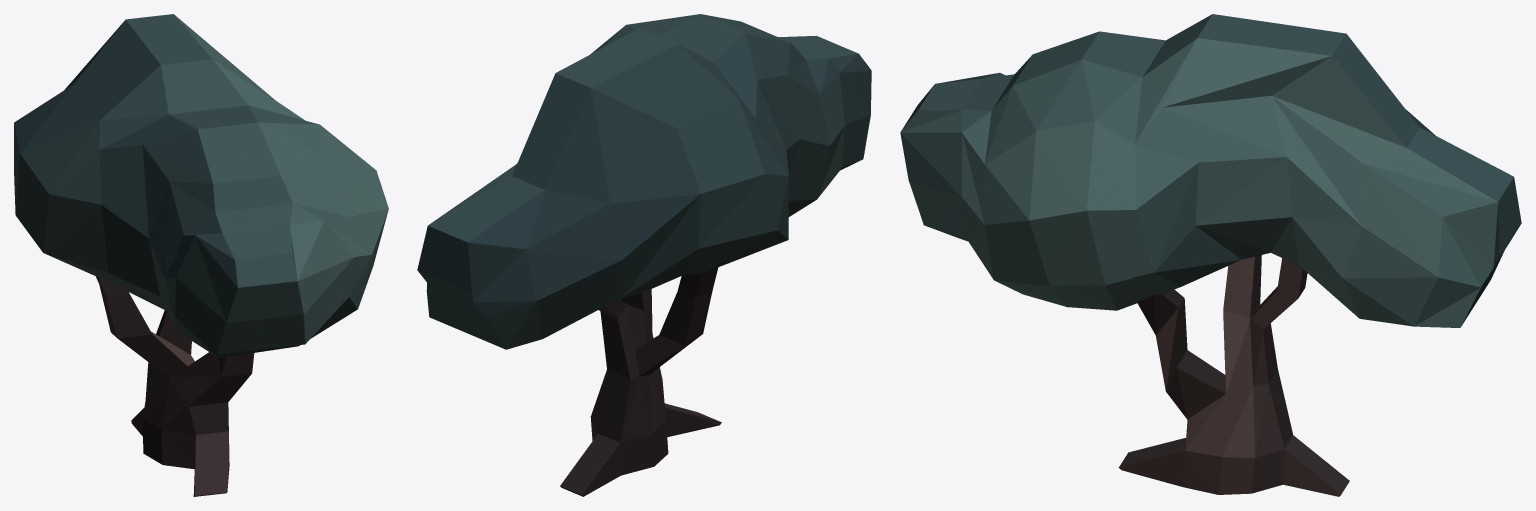
Rendered from Olive2.obj.
3 renders of one model, left to right at view 1: azimuth 30°, elevation 25°; view 2: azimuth 150°, elevation 25°; view 3: azimuth 270°, elevation 25°, orthographic. The views are drawn at different scales.
Visible parts, largest first — view 1: Olive2; view 2: Olive2; view 3: Olive2.
Boxes of the visible parts, left/top/right/bottom form: Olive2: left=14, top=14, right=388, bottom=496; Olive2: left=417, top=14, right=871, bottom=496; Olive2: left=900, top=14, right=1521, bottom=496.
Size of the model in its own units: 5.05 by 7.09 by 8.84.
